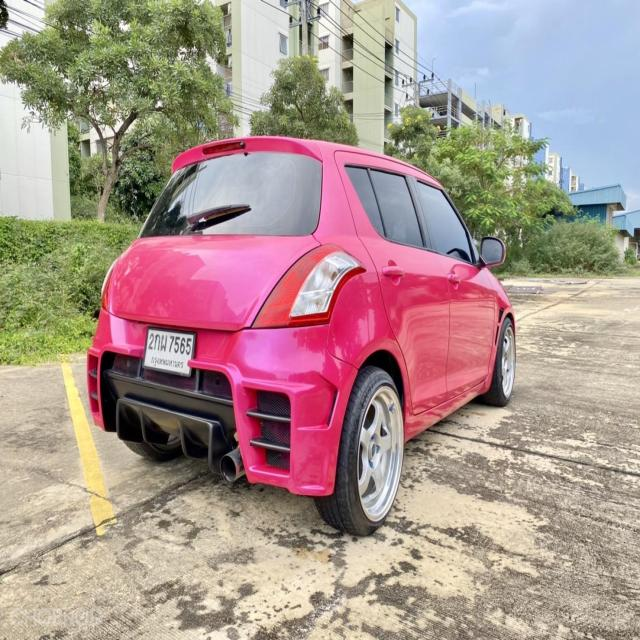license_plate: (142, 323, 196, 376)
